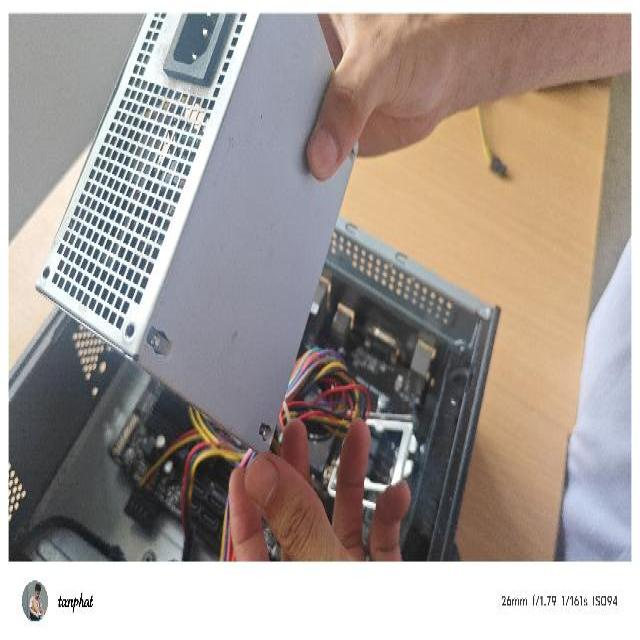PSU: (37, 18, 360, 456)
